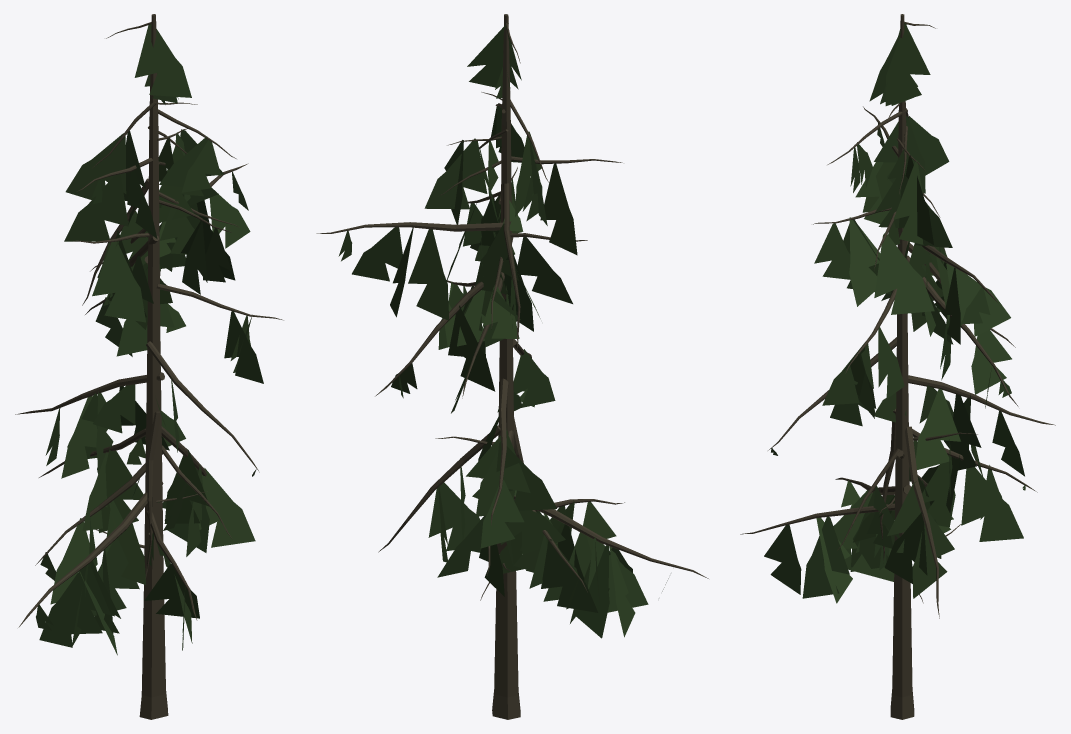
Rendered from fir_alright.fbx.
3 renders of one model, left to right at view 1: azimuth 30°, elevation 25°; view 2: azimuth 150°, elevation 25°; view 3: azimuth 270°, elevation 25°, orthographic.
Parts seen in each view (by area): view 1: Cube; view 2: Cube; view 3: Cube.
Part boxes in pixels (x1=…): Cube: x1=15, y1=14, x2=283, y2=719; Cube: x1=316, y1=14, x2=708, y2=719; Cube: x1=740, y1=14, x2=1055, y2=719.
Size of the model in its own units: 2675 by 3056 by 6491.
